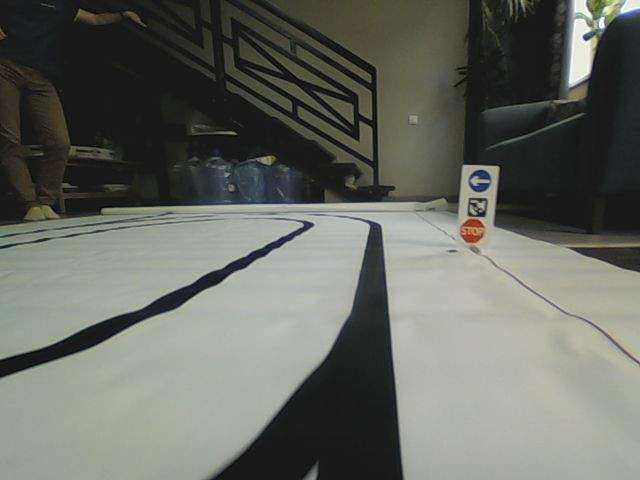Stop: (458, 219, 485, 244)
